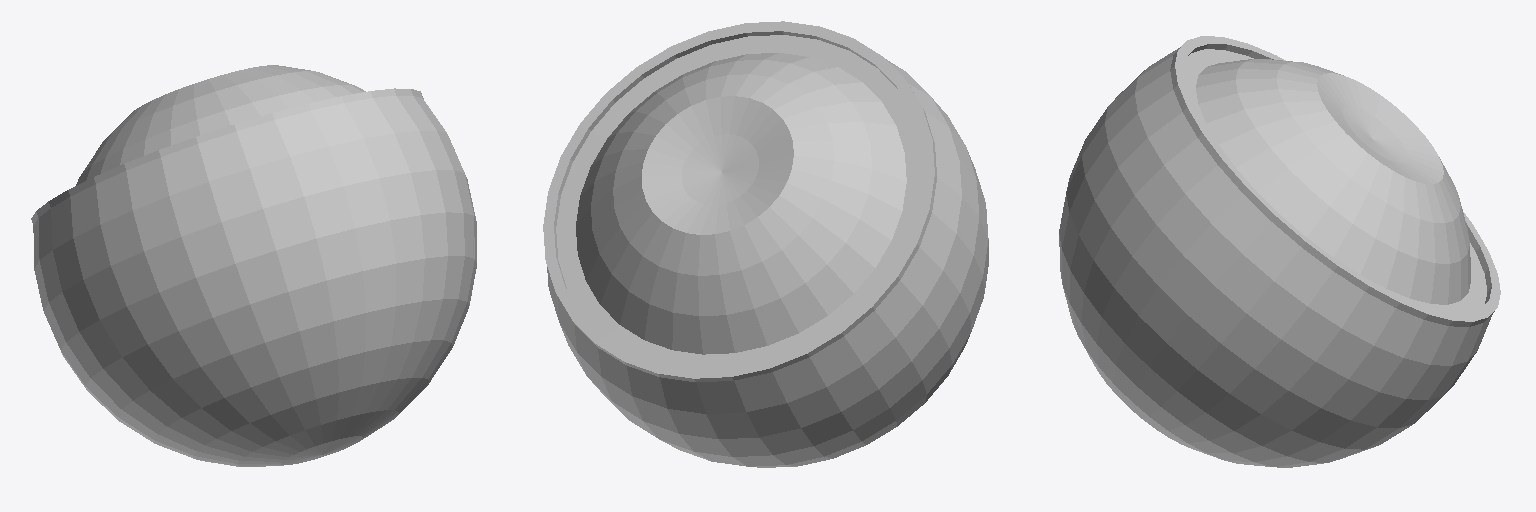
The picture shows the model from 3 angles: view 1: azimuth 30°, elevation 25°; view 2: azimuth 150°, elevation 25°; view 3: azimuth 270°, elevation 25°; orthographic projection.
Visible parts, largest first — view 1: Mat_Ball_Sphere.001; view 2: Mat_Ball_Sphere.001; view 3: Mat_Ball_Sphere.001.
Boxes of the visible parts, <box> form: Mat_Ball_Sphere.001: <box>31,65,476,466</box>; Mat_Ball_Sphere.001: <box>543,21,988,467</box>; Mat_Ball_Sphere.001: <box>1059,36,1500,467</box>.
Size of the model in its own units: 20 by 18.91 by 19.84.